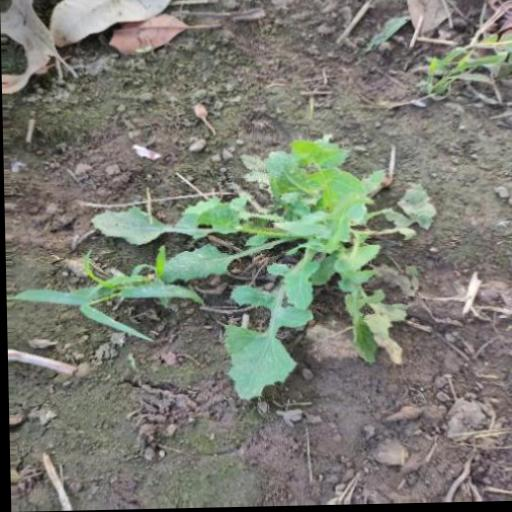weed: (32, 104, 456, 416)
